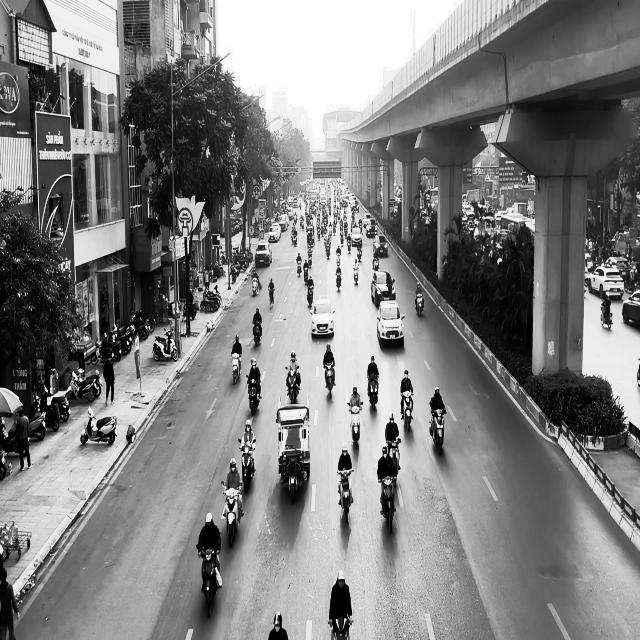car: (376, 298, 405, 348), (310, 297, 336, 337), (371, 271, 396, 306), (622, 288, 640, 328), (254, 238, 272, 266)
motorbike: (196, 544, 221, 618), (221, 480, 243, 548), (80, 406, 117, 445), (378, 474, 396, 534), (336, 468, 354, 523), (238, 437, 255, 494), (428, 404, 446, 455), (152, 328, 178, 361), (347, 402, 362, 448), (328, 616, 353, 640), (386, 438, 401, 478), (246, 376, 261, 415), (285, 366, 300, 404), (401, 391, 413, 432), (367, 374, 379, 411), (323, 362, 335, 398), (231, 352, 242, 384), (600, 302, 613, 329), (252, 321, 262, 346), (252, 275, 260, 296), (353, 260, 359, 284), (268, 286, 274, 309), (336, 268, 342, 290), (296, 258, 302, 277)
